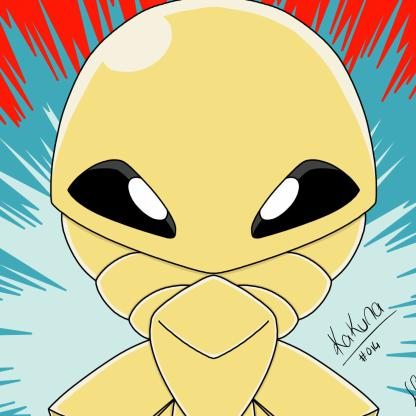Kakuna: (63, 1, 368, 416)
